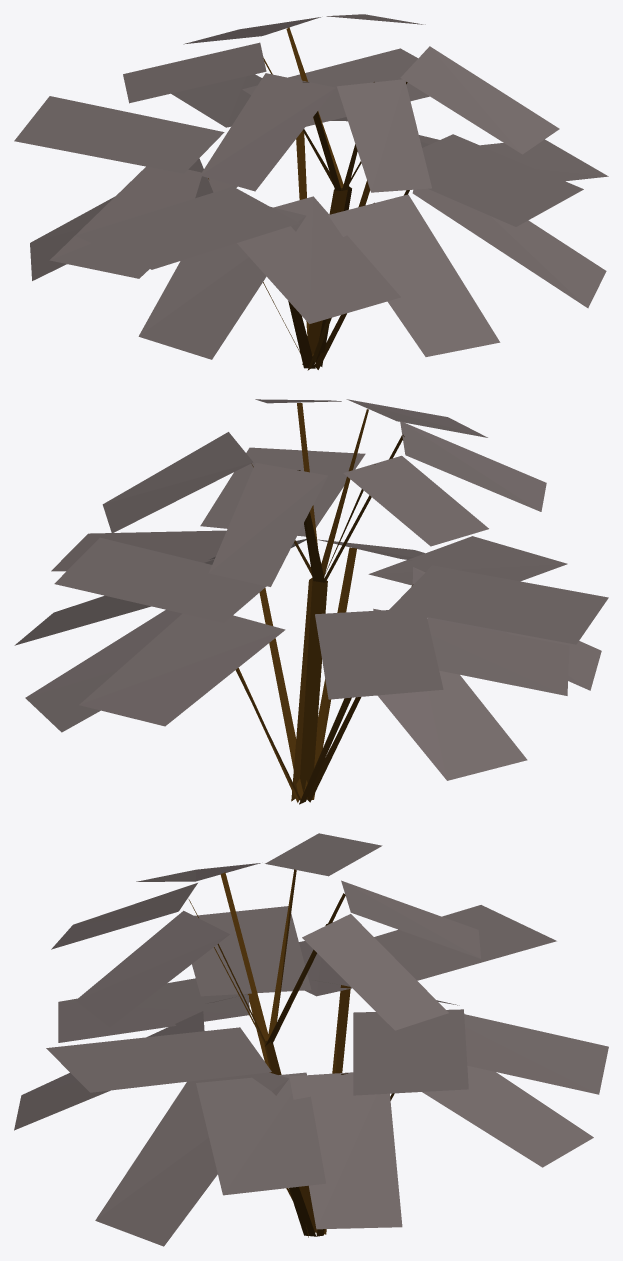
File: obj_plant_7_0.obj
3 renders of one model, top to bottom at view 1: azimuth 30°, elevation 25°; view 2: azimuth 150°, elevation 25°; view 3: azimuth 270°, elevation 25°, orthographic. The views are drawn at different scales.
Size of the model in its own units: 1.91 by 1.19 by 1.89.
